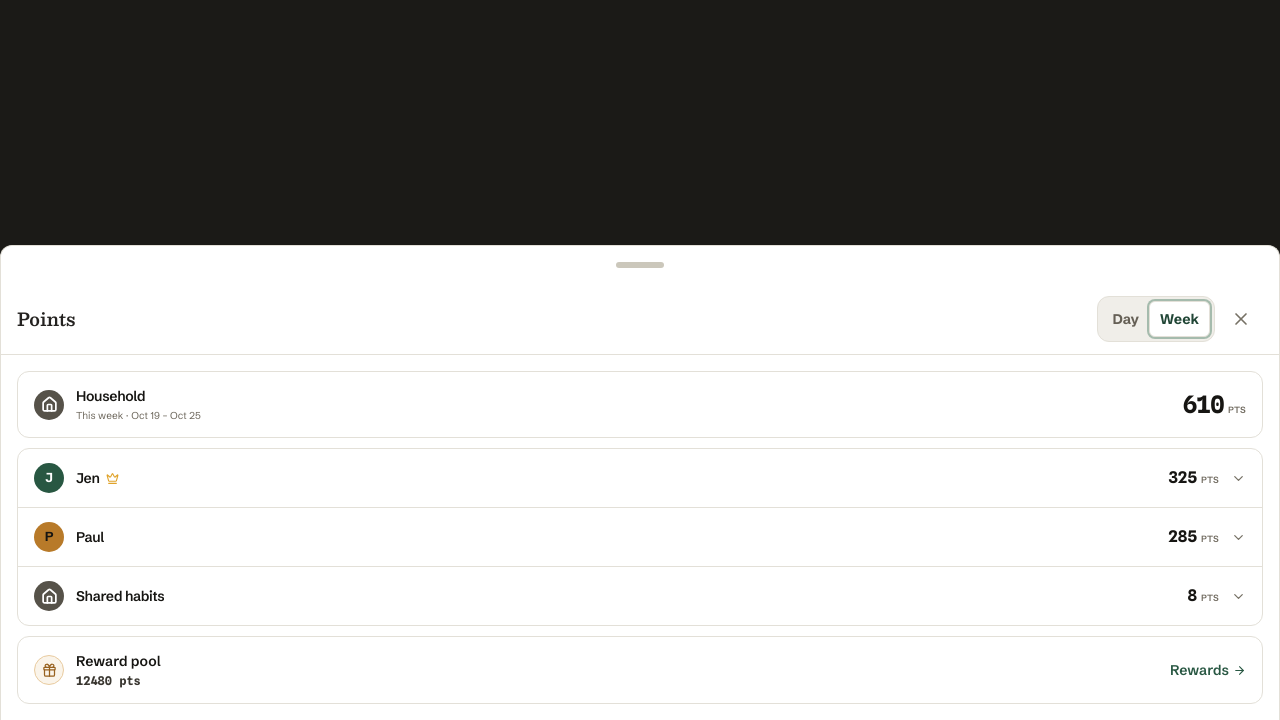
Scenario: PointsBreakdownDrawer › row disclosure (itemized breakdown) › expands the Shared habits row into the completions that belong to nobody
Click the button with test id "points-drawer-row-shared": (120, 596) [18, 567, 1262, 625]
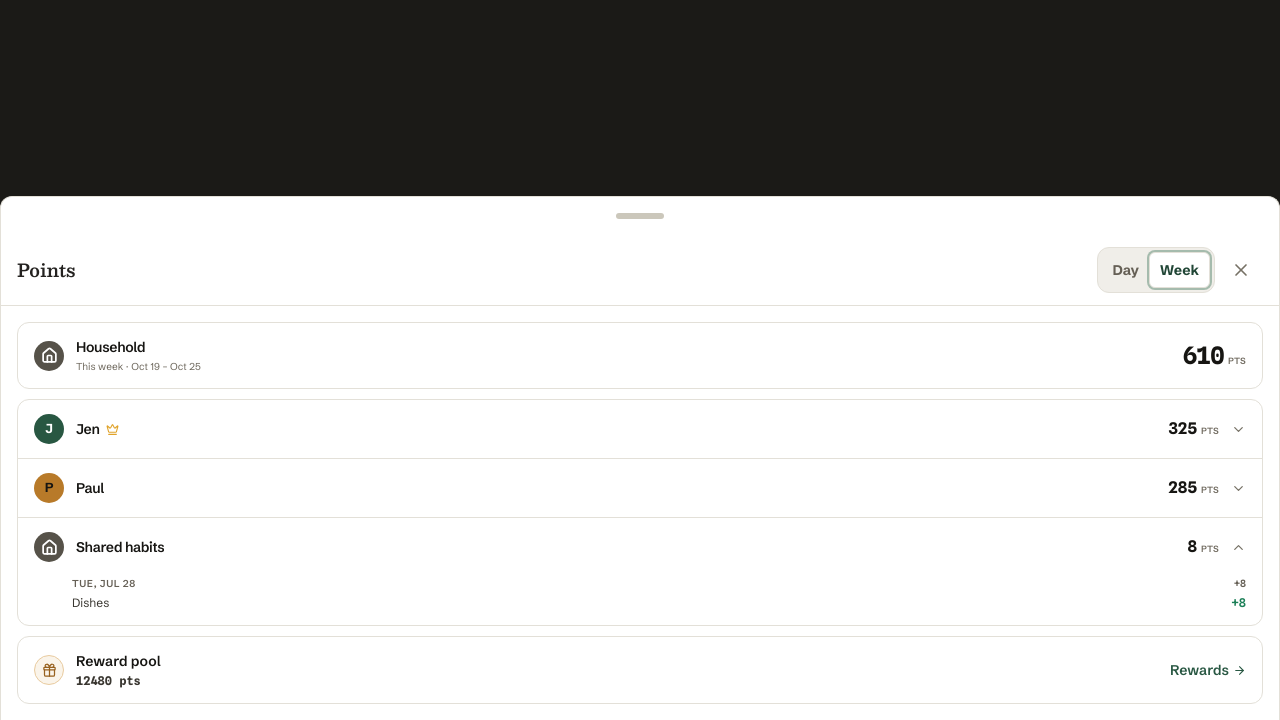
Expected: the element showing "Tue, Jul 28 +8 Dishes +8" does not show "Morning run", [18, 576, 1262, 625]
Expected: the element showing "Tue, Jul 28 +8 Dishes +8" is shown, [18, 576, 1262, 625]
